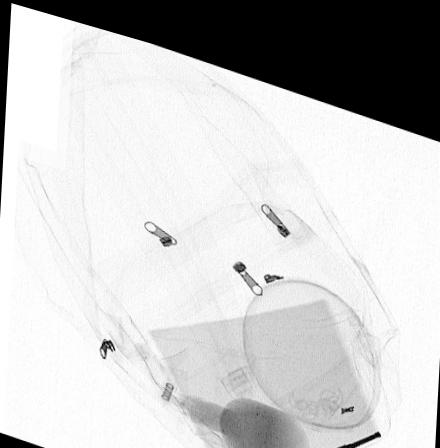Gun: (306, 408, 382, 448)
